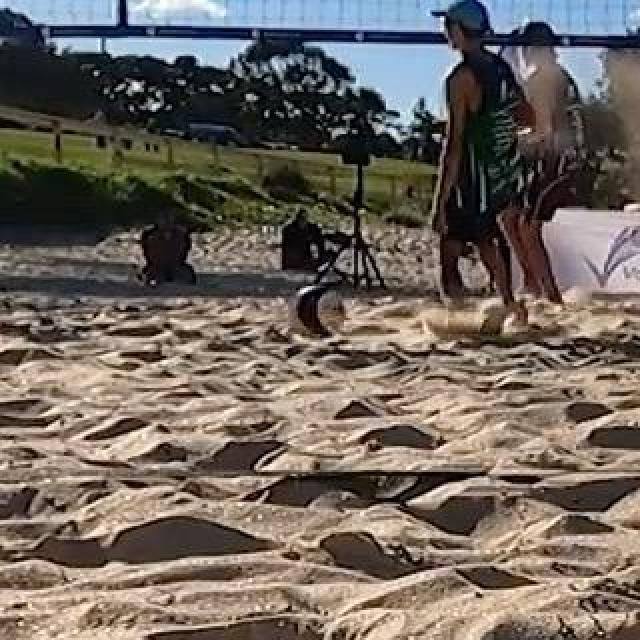volleyball: (290, 285, 346, 339)
